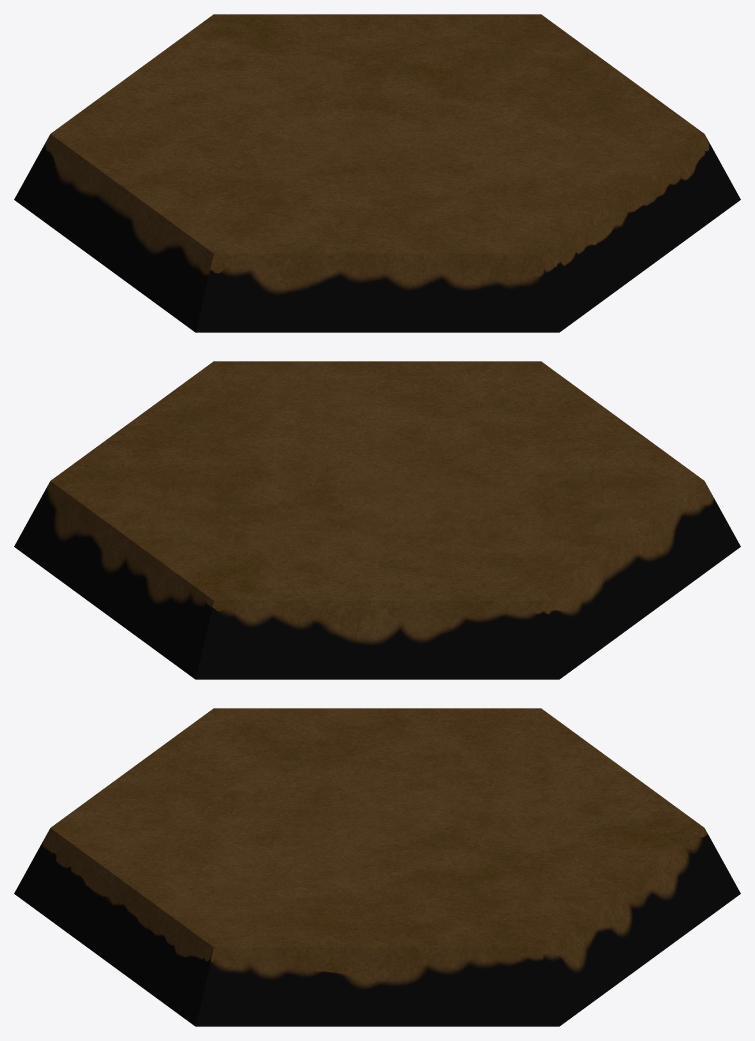
File: HexCell_5Units_Terrain_Dirt_01.fbx
3 renders of one model, top to bottom at view 1: azimuth 30°, elevation 25°; view 2: azimuth 150°, elevation 25°; view 3: azimuth 270°, elevation 25°, orthographic.
Parts seen in each view (by area): view 1: HexTerrain; view 2: HexTerrain; view 3: HexTerrain.
Boxes of the visible parts, x1,y1,x2,y2 form: HexTerrain: [14, 14, 740, 332]; HexTerrain: [14, 361, 740, 679]; HexTerrain: [14, 708, 740, 1026].
Size of the model in its own units: 433 by 50 by 500.
1 material, 1 textured.
